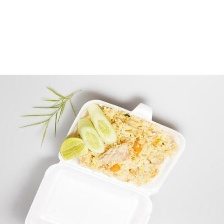foam_box: (21, 92, 191, 224)
